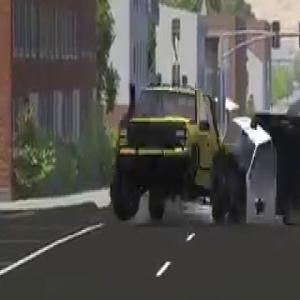minor: (107, 75, 300, 233)
